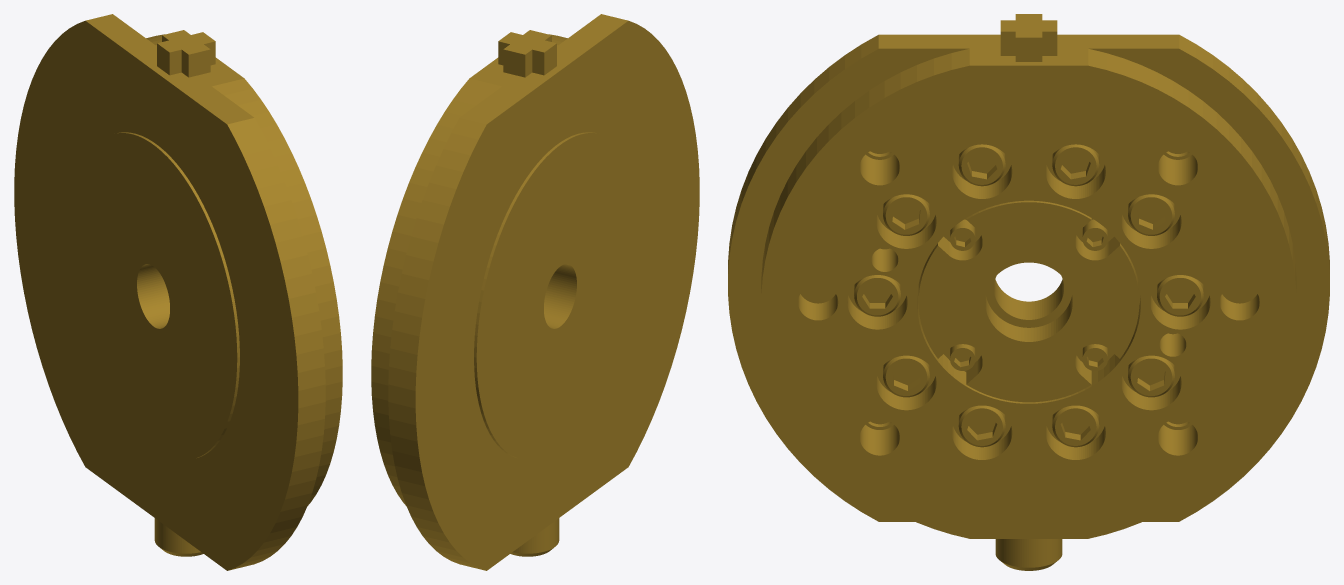
3 renders of one model, left to right at view 1: azimuth 30°, elevation 25°; view 2: azimuth 150°, elevation 25°; view 3: azimuth 270°, elevation 25°, orthographic. The views are drawn at different scales.
Parts seen in each view (by area): view 1: Link_T; view 2: Link_T; view 3: Link_T.
Boxes of the visible parts, x1,y1,x2,y2 form: Link_T: [14, 14, 342, 570]; Link_T: [371, 14, 699, 570]; Link_T: [728, 14, 1329, 570].
Bounding box in the file's own units: 0.0115 × 0.0899 × 0.088.
